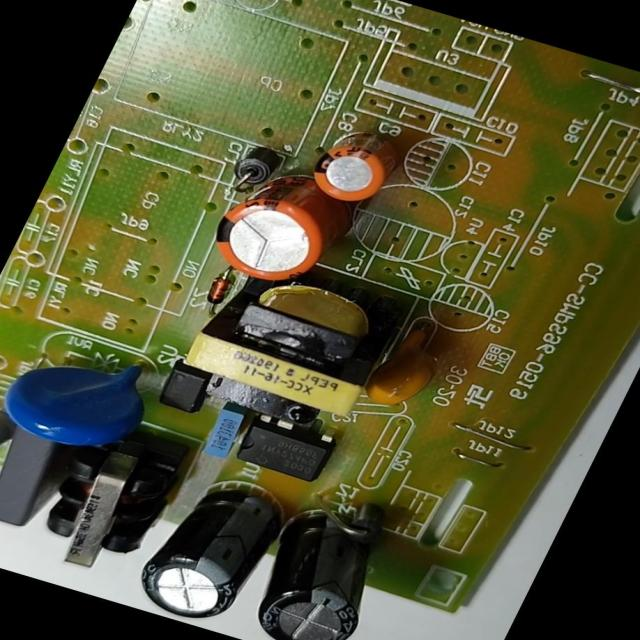Cap1: (192, 154, 359, 296)
Cap2: (298, 114, 413, 216)
Cap3: (123, 466, 303, 637)
Cap4: (237, 497, 411, 639)
MOSFET: (223, 406, 343, 489)
Mov: (0, 328, 169, 470)
Resistor: (0, 402, 21, 468)
Transformer: (162, 239, 420, 444), (16, 411, 196, 584)
